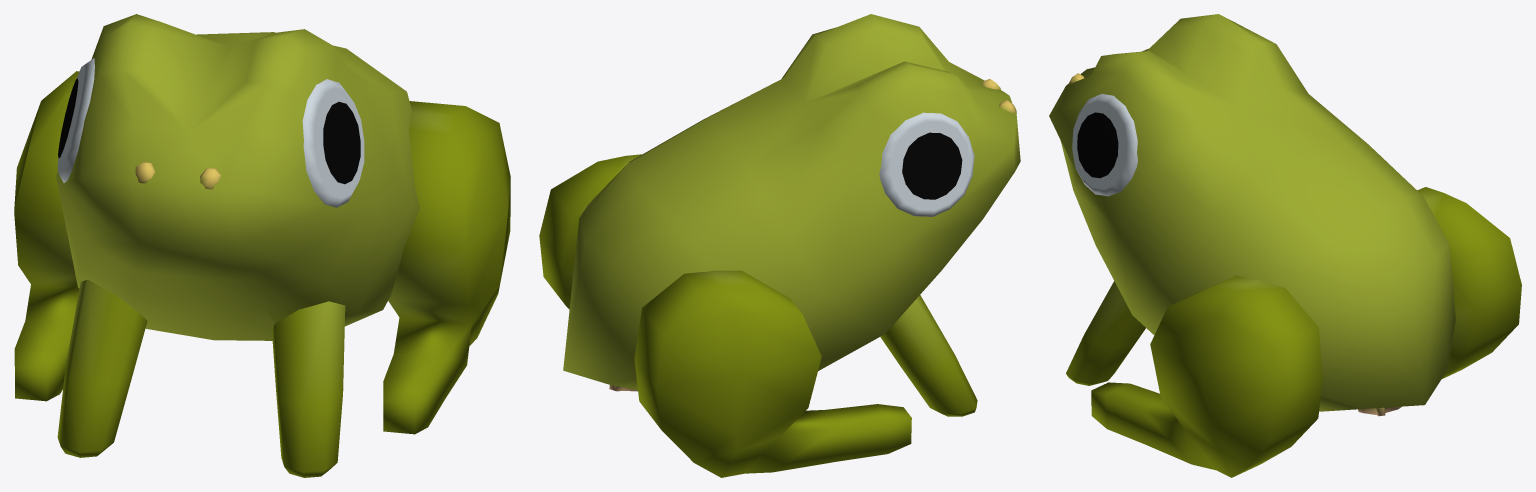
File: Frog.glb
3 renders of one model, left to right at view 1: azimuth 30°, elevation 25°; view 2: azimuth 150°, elevation 25°; view 3: azimuth 270°, elevation 25°, orthographic. The views are drawn at different scales.
Visible parts, largest first — view 1: 53; view 2: 53; view 3: 53.
Boxes of the visible parts, box(x1,y1,x2,y2) form: 53: box(14, 14, 510, 477); 53: box(539, 14, 1020, 477); 53: box(1049, 14, 1521, 477).
Size of the model in its own units: 0.5788 by 0.453 by 0.5911.
